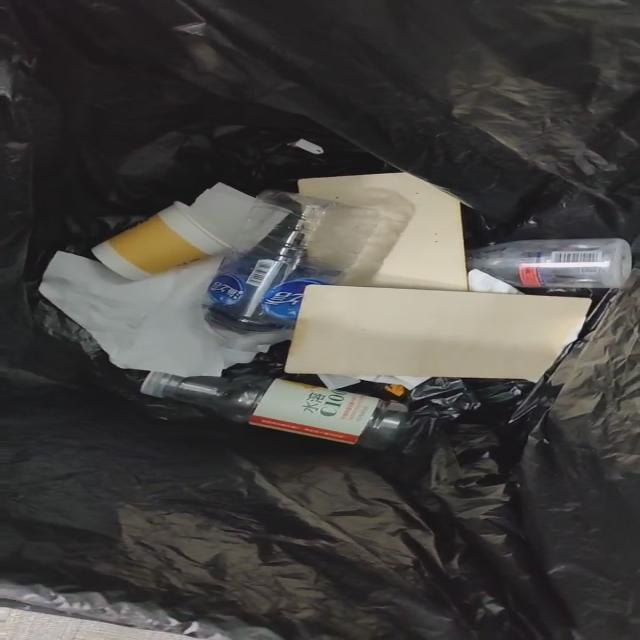bottle: (204, 193, 378, 367), (140, 374, 423, 450), (468, 238, 631, 292)
dixie_cup: (92, 202, 232, 280)
paper: (40, 252, 223, 376), (186, 183, 267, 250), (320, 374, 428, 390), (468, 268, 518, 294)
